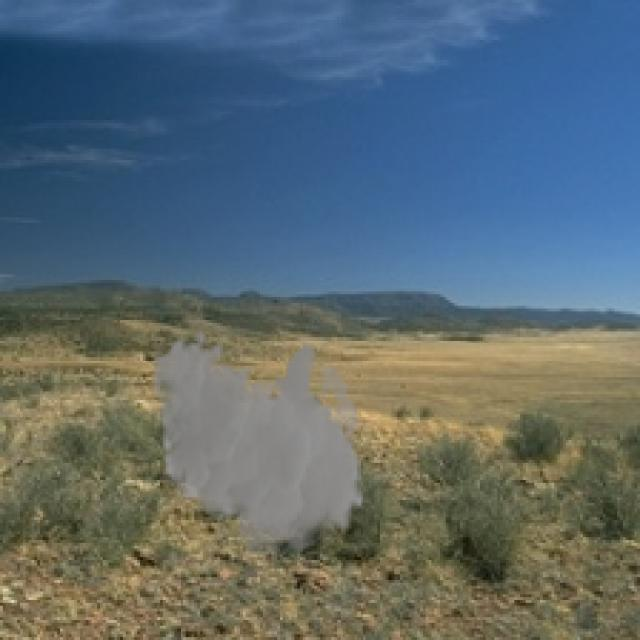Smoke: (152, 328, 366, 566)
